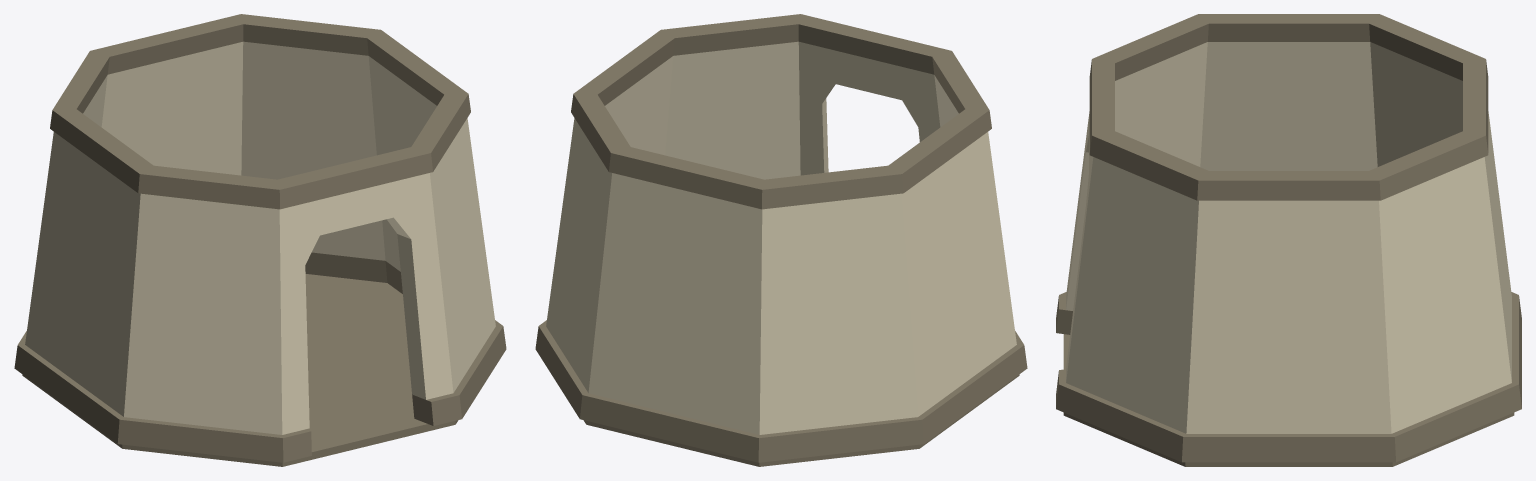
Rendered from mill_roundhouse.glb.
3 renders of one model, left to right at view 1: azimuth 30°, elevation 25°; view 2: azimuth 150°, elevation 25°; view 3: azimuth 270°, elevation 25°, orthographic. The views are drawn at different scales.
Parts seen in each view (by area): view 1: Mill roundhouse; view 2: Mill roundhouse; view 3: Mill roundhouse.
Boxes of the visible parts, x1,y1,x2,y2 form: Mill roundhouse: (14, 14, 506, 466); Mill roundhouse: (535, 14, 1027, 466); Mill roundhouse: (1056, 14, 1521, 466).
Size of the model in its own units: 2.97 by 1.93 by 2.97.
